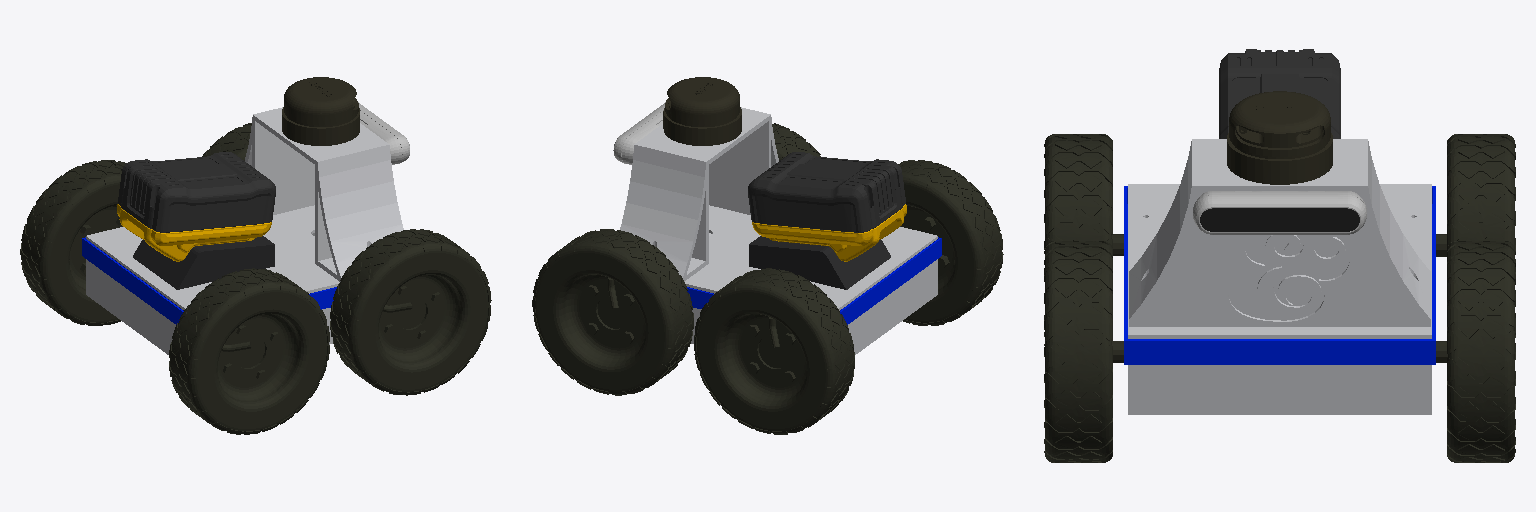
robot.urdf — scout_description:
<?xml version="1.0" encoding="utf-8"?>
<!-- This URDF was automatically created by SolidWorks to URDF Exporter! Originally created by Stephen Brawner (brawner@gmail.com) 
     Commit Version: 1.6.0-4-g7f85cfe  Build Version: 1.6.7995.38578
     For more information, please see http://wiki.ros.org/sw_urdf_exporter -->
<robot
  name="scout_description">
  <!-- REP-103 root. The export has forward along -Y with its origin on the chassis
       plate, so this yaws the body 90 deg to put forward on +X and lifts it by
       (wheel radius 0.079 - hub height 0.031915) so the tires rest on z=0. -->
  <link
    name="base_link" />
  <joint
    name="base_link_to_chassis"
    type="fixed">
    <origin
      xyz="0 0 0.047085"
      rpy="0 0 1.5707963267949" />
    <parent
      link="base_link" />
    <child
      link="chassis_link" />
  </joint>
  <link
    name="chassis_link">
    <inertial>
      <origin
        xyz="-2.05133475403087E-07 0.0134919234773477 1.16119861437405E-09"
        rpy="0 0 0" />
      <mass
        value="0.628253833536181" />
      <inertia
        ixx="0.00527449992314681"
        ixy="1.49341221243653E-09"
        ixz="-6.50016094967778E-09"
        iyy="0.00878074361297849"
        iyz="-1.80045112754674E-09"
        izz="0.00369642689872633" />
    </inertial>
    <visual>
      <origin
        xyz="0 0 0"
        rpy="0 0 0" />
      <geometry>
        <mesh
          filename="package://scout_description/meshes/base_link.STL" />
      </geometry>
      <material
        name="">
        <color
          rgba="0.807843137254902 0.811764705882353 0.827450980392157 1" />
      </material>
    </visual>
    <collision>
      <origin
        xyz="0 0 0"
        rpy="0 0 0" />
      <geometry>
        <mesh
          filename="package://scout_description/meshes/base_link.STL" />
      </geometry>
    </collision>
  </link>
  <link
    name="spacer_link">
    <inertial>
      <origin
        xyz="0.000197527385681256 -1.02412729467648E-16 0.00960326154184477"
        rpy="0 0 0" />
      <mass
        value="0.0727570000000002" />
      <inertia
        ixx="0.000727189014800202"
        ixy="-6.19885483493687E-19"
        ixz="-4.16304767514318E-08"
        iyy="0.000557527029097879"
        iyz="1.37604985473919E-20"
        izz="0.00128096940333934" />
    </inertial>
    <visual>
      <origin
        xyz="0 0 0"
        rpy="0 0 0" />
      <geometry>
        <mesh
          filename="package://scout_description/meshes/spacer_link.STL" />
      </geometry>
      <material
        name="">
        <color
          rgba="0 0.156862745098039 0.941176470588235 1" />
      </material>
    </visual>
    <collision>
      <origin
        xyz="0 0 0"
        rpy="0 0 0" />
      <geometry>
        <mesh
          filename="package://scout_description/meshes/spacer_link.STL" />
      </geometry>
    </collision>
  </link>
  <joint
    name="base_to_spacer"
    type="fixed">
    <origin
      xyz="0 0 0.04045"
      rpy="0 0 0" />
    <parent
      link="chassis_link" />
    <child
      link="spacer_link" />
    <axis
      xyz="0 0 0" />
  </joint>
  <link
    name="lid_link">
    <inertial>
      <origin
        xyz="-5.90796921207222E-05 -8.17963188809673E-06 0.0015029268816516"
        rpy="0 0 0" />
      <mass
        value="0.162322772396665" />
      <inertia
        ixx="0.000874883332732845"
        ixy="6.49448789501585E-07"
        ixz="-2.35805250538555E-08"
        iyy="0.000635386183112481"
        iyz="-2.86484235043486E-08"
        izz="0.00151002603453141" />
    </inertial>
    <visual>
      <origin
        xyz="0 0 0"
        rpy="0 0 0" />
      <geometry>
        <mesh
          filename="package://scout_description/meshes/lid_link.STL" />
      </geometry>
      <material
        name="">
        <color
          rgba="0.807843137254902 0.811764705882353 0.827450980392157 1" />
      </material>
    </visual>
    <collision>
      <origin
        xyz="0 0 0"
        rpy="0 0 0" />
      <geometry>
        <mesh
          filename="package://scout_description/meshes/lid_link.STL" />
      </geometry>
    </collision>
  </link>
  <joint
    name="spacer_to_lid"
    type="fixed">
    <origin
      xyz="0 0 0.019"
      rpy="0 0 0" />
    <parent
      link="spacer_link" />
    <child
      link="lid_link" />
    <axis
      xyz="0 0 0" />
  </joint>
  <link
    name="mount_link">
    <inertial>
      <origin
        xyz="-6.64625778188209E-05 -0.0078883946161637 0.053831360572386"
        rpy="0 0 0" />
      <mass
        value="0.313573385007994" />
      <inertia
        ixx="0.000639365050518883"
        ixy="-6.44807296161262E-07"
        ixz="5.93109068766818E-07"
        iyy="0.0017204243036312"
        iyz="-1.15657524613188E-05"
        izz="0.00149197210979415" />
    </inertial>
    <visual>
      <origin
        xyz="0 0 0"
        rpy="0 0 0" />
      <geometry>
        <mesh
          filename="package://scout_description/meshes/mount_link.STL" />
      </geometry>
      <material
        name="">
        <color
          rgba="0.807843137254902 0.811764705882353 0.827450980392157 1" />
      </material>
    </visual>
    <collision>
      <origin
        xyz="0 0 0"
        rpy="0 0 0" />
      <geometry>
        <mesh
          filename="package://scout_description/meshes/mount_link.STL" />
      </geometry>
    </collision>
  </link>
  <joint
    name="lid_to_mount"
    type="fixed">
    <origin
      xyz="0 -0.0725 0.00299999999999989"
      rpy="0 0 0" />
    <parent
      link="lid_link" />
    <child
      link="mount_link" />
    <axis
      xyz="0 0 0" />
  </joint>
  <!-- Exporter's camera frame: Z out of the lens, Y up, X to the robot's left.
       Renamed from camera_link so the name is free for the REP-103 sensor frame
       below, which is what realsense2_camera roots its optical frames on. -->
  <link
    name="camera_body_link">
    <inertial>
      <origin
        xyz="0.000277512825265069 0.000294389543929602 -0.0135772996514738"
        rpy="0 0 0" />
      <mass
        value="0.0236867347433105" />
      <inertia
        ixx="2.80822628723906E-06"
        ixy="2.79444531533659E-08"
        ixz="-1.38614165535007E-08"
        iyy="3.23846816719998E-05"
        iyz="-2.6287464214589E-08"
        izz="3.45245699648636E-05" />
    </inertial>
    <visual>
      <origin
        xyz="0 0 0"
        rpy="0 0 0" />
      <geometry>
        <mesh
          filename="package://scout_description/meshes/camera_link.STL" />
      </geometry>
      <material
        name="">
        <color
          rgba="0.752941176470588 0.752941176470588 0.752941176470588 1" />
      </material>
    </visual>
    <collision>
      <origin
        xyz="0 0 0"
        rpy="0 0 0" />
      <geometry>
        <mesh
          filename="package://scout_description/meshes/camera_link.STL" />
      </geometry>
    </collision>
  </link>
  <joint
    name="mount_to_camera"
    type="fixed">
    <origin
      xyz="0 -0.066 0.0955"
      rpy="1.5707963267949 0 0" />
    <parent
      link="mount_link" />
    <child
      link="camera_body_link" />
    <axis
      xyz="0 0 0" />
  </joint>
  <!-- REP-103 sensor frame: X out of the lens, Y left, Z up. realsense2_camera
       roots its whole tree here (base_frame_id = <camera_name>_link) and assumes
       a body frame, so handing it the exporter's optical-style frame aims the
       boresight down the robot's left and rolls the image 90 deg. Rotation only;
       the origin still sits where the CAD frame does, which is NOT the depth
       imager realsense measures from. -->
  <link
    name="camera_link" />
  <joint
    name="camera_body_to_camera"
    type="fixed">
    <origin
      xyz="0 0 0"
      rpy="-1.5707963267949 -1.5707963267949 0" />
    <parent
      link="camera_body_link" />
    <child
      link="camera_link" />
    <axis
      xyz="0 0 0" />
  </joint>
  <link
    name="lens_link">
    <inertial>
      <origin
        xyz="8.12762737623786E-16 0 -0.000374999999999959"
        rpy="0 0 0" />
      <mass
        value="0.00111062343059037" />
      <inertia
        ixx="3.04707470445964E-08"
        ixy="5.82053463846387E-22"
        ixz="3.20842615796104E-22"
        iyy="1.11409811311008E-06"
        iyz="-3.97785661047127E-24"
        izz="1.14451303350383E-06" />
    </inertial>
    <visual>
      <origin
        xyz="0 0 0"
        rpy="0 0 0" />
      <geometry>
        <mesh
          filename="package://scout_description/meshes/lens_link.STL" />
      </geometry>
      <material
        name="">
        <color
          rgba="0.164705882352941 0.164705882352941 0.164705882352941 1" />
      </material>
    </visual>
    <collision>
      <origin
        xyz="0 0 0"
        rpy="0 0 0" />
      <geometry>
        <mesh
          filename="package://scout_description/meshes/lens_link.STL" />
      </geometry>
    </collision>
  </link>
  <joint
    name="camera_to_lens"
    type="fixed">
    <origin
      xyz="0 0 0"
      rpy="0 0 0" />
    <parent
      link="camera_body_link" />
    <child
      link="lens_link" />
    <axis
      xyz="0 0 0" />
  </joint>
  <link
    name="lidar2_link">
    <inertial>
      <origin
        xyz="-2.40795824818487E-15 0.0121144991864107 -1.21936715905269E-05"
        rpy="0 0 0" />
      <mass
        value="0.10773590450219" />
      <inertia
        ixx="4.26802409371355E-05"
        ixy="-2.57878394280843E-20"
        ixz="4.59909336363118E-21"
        iyy="7.46209690453417E-05"
        iyz="-1.17766288567913E-08"
        izz="4.27190109949372E-05" />
    </inertial>
    <visual>
      <origin
        xyz="0 0 0"
        rpy="0 0 0" />
      <geometry>
        <mesh
          filename="package://scout_description/meshes/lidar2_link.STL" />
      </geometry>
      <material
        name="">
        <color
          rgba="0.215686274509804 0.207843137254902 0.164705882352941 1" />
      </material>
    </visual>
    <collision>
      <origin
        xyz="0 0 0"
        rpy="0 0 0" />
      <geometry>
        <mesh
          filename="package://scout_description/meshes/lidar2_link.STL" />
      </geometry>
    </collision>
  </link>
  <joint
    name="mount_to_lidar2"
    type="fixed">
    <origin
      xyz="0 0 0.11"
      rpy="1.5707963267949 0 0" />
    <parent
      link="mount_link" />
    <child
      link="lidar2_link" />
    <axis
      xyz="0 0 0" />
  </joint>
  <link
    name="lidar1_link">
    <inertial>
      <origin
        xyz="-6.79284396693771E-05 0.0127582910572877 -0.00287745718272379"
        rpy="0 0 0" />
      <mass
        value="0.0553294443219569" />
      <inertia
        ixx="1.7720011787333E-05"
        ixy="-5.01380876339831E-09"
        ixz="3.90002280633357E-08"
        iyy="3.29678736378217E-05"
        iyz="-2.52610062775517E-07"
        izz="1.80444163063016E-05" />
    </inertial>
    <visual>
      <origin
        xyz="0 0 0"
        rpy="0 0 0" />
      <geometry>
        <mesh
          filename="package://scout_description/meshes/lidar1_link.STL" />
      </geometry>
      <material
        name="">
        <color
          rgba="0.215686274509804 0.207843137254902 0.164705882352941 1" />
      </material>
    </visual>
    <collision>
      <origin
        xyz="0 0 0"
        rpy="0 0 0" />
      <geometry>
        <mesh
          filename="package://scout_description/meshes/lidar1_link.STL" />
      </geometry>
    </collision>
  </link>
  <joint
    name="lidar2_to_lidar1"
    type="fixed">
    <origin
      xyz="0 0.0211 0"
      rpy="0 0 0" />
    <parent
      link="lidar2_link" />
    <child
      link="lidar1_link" />
    <axis
      xyz="0 1 0" />
  </joint>
  <link
    name="batterym_link">
    <inertial>
      <origin
        xyz="1.6947007653915E-16 0.00242659541762764 0.0142485318440091"
        rpy="0 0 0" />
      <mass
        value="0.248922879913385" />
      <inertia
        ixx="0.000214734657911992"
        ixy="2.09093707906613E-19"
        ixz="-3.56770084369574E-21"
        iyy="0.000176135300347817"
        iyz="3.02399111309702E-06"
        izz="0.000353244154913819" />
    </inertial>
    <visual>
      <origin
        xyz="0 0 0"
        rpy="0 0 0" />
      <geometry>
        <mesh
          filename="package://scout_description/meshes/batterym_link.STL" />
      </geometry>
      <material
        name="">
        <color
          rgba="0.196078431372549 0.196078431372549 0.2 1" />
      </material>
    </visual>
    <collision>
      <origin
        xyz="0 0 0"
        rpy="0 0 0" />
      <geometry>
        <mesh
          filename="package://scout_description/meshes/batterym_link.STL" />
      </geometry>
    </collision>
  </link>
  <joint
    name="lid_to_batterym"
    type="fixed">
    <origin
      xyz="0 0.058 0.003"
      rpy="0 0 3.14159265358979" />
    <parent
      link="lid_link" />
    <child
      link="batterym_link" />
    <axis
      xyz="0 0 0" />
  </joint>
  <link
    name="battery2_link">
    <inertial>
      <origin
        xyz="0.00356409854564139 -4.93989481279082E-06 0.0128800322039038"
        rpy="0 0 0" />
      <mass
        value="0.245273999891397" />
      <inertia
        ixx="0.000143231524586307"
        ixy="5.99241048237948E-08"
        ixz="2.70899560254507E-06"
        iyy="0.000306197402580858"
        iyz="1.08329264906422E-08"
        izz="0.000409138611513668" />
    </inertial>
    <visual>
      <origin
        xyz="0 0 0"
        rpy="0 0 0" />
      <geometry>
        <mesh
          filename="package://scout_description/meshes/battery2_link.STL" />
      </geometry>
      <material
        name="">
        <color
          rgba="0.917647058823529 0.690196078431373 0.00392156862745098 1" />
      </material>
    </visual>
    <collision>
      <origin
        xyz="0 0 0"
        rpy="0 0 0" />
      <geometry>
        <mesh
          filename="package://scout_description/meshes/battery2_link.STL" />
      </geometry>
    </collision>
  </link>
  <joint
    name="batterym_to_battery2"
    type="fixed">
    <origin
      xyz="0 -0.00981069409924784 0.0546631361304657"
      rpy="3.14159265358979 0.141897054604163 1.5707963267949" />
    <parent
      link="batterym_link" />
    <child
      link="battery2_link" />
    <axis
      xyz="0 0 0" />
  </joint>
  <link
    name="battery1_link">
    <inertial>
      <origin
        xyz="-0.000648946663499711 -5.1449797614796E-07 -0.0208675710085726"
        rpy="0 0 0" />
      <mass
        value="0.458824452680413" />
      <inertia
        ixx="0.000333300422174506"
        ixy="2.20420351975092E-09"
        ixz="-1.32903008247267E-06"
        iyy="0.000721396419182853"
        iyz="-3.34521158831995E-09"
        izz="0.000920494631836151" />
    </inertial>
    <visual>
      <origin
        xyz="0 0 0"
        rpy="0 0 0" />
      <geometry>
        <mesh
          filename="package://scout_description/meshes/battery1_link.STL" />
      </geometry>
      <material
        name="">
        <color
          rgba="0.227450980392157 0.227450980392157 0.227450980392157 1" />
      </material>
    </visual>
    <collision>
      <origin
        xyz="0 0 0"
        rpy="0 0 0" />
      <geometry>
        <mesh
          filename="package://scout_description/meshes/battery1_link.STL" />
      </geometry>
    </collision>
  </link>
  <joint
    name="battery2_to_battery1"
    type="fixed">
    <origin
      xyz="0 -0.00981069409924784 0.0546631361304657"
      rpy="3.14159265358979 0.141897054604163 1.5707963267949" />
    <parent
      link="batterym_link" />
    <child
      link="battery1_link" />
    <axis
      xyz="0 0 0" />
  </joint>
  <link
    name="wheel1_link">
    <inertial>
      <origin
        xyz="0.0315846280216946 3.232872720179E-05 -6.887606772088E-06"
        rpy="0 0 0" />
      <mass
        value="0.661364365595557" />
      <inertia
        ixx="0.00252789625291628"
        ixy="-1.74768796826414E-07"
        ixz="5.12126242838257E-08"
        iyy="0.00137382804723504"
        iyz="7.86987583617194E-08"
        izz="0.00137430436664017" />
    </inertial>
    <visual>
      <origin
        xyz="0 0 0"
        rpy="0 0 0" />
      <geometry>
        <mesh
          filename="package://scout_description/meshes/wheel_link.STL" />
      </geometry>
      <material
        name="">
        <color
          rgba="0.211764705882353 0.215686274509804 0.176470588235294 1" />
      </material>
    </visual>
    <collision>
      <origin
        xyz="0 0 0"
        rpy="0 0 0" />
      <geometry>
        <mesh
          filename="package://scout_description/meshes/wheel_link.STL" />
      </geometry>
    </collision>
  </link>
  <joint
    name="base_to_wheel1"
    type="continuous">
    <origin
      xyz="0.111 -0.089606 0.031915"
      rpy="1.5708 0 0" />
    <parent
      link="chassis_link" />
    <child
      link="wheel1_link" />
    <axis
      xyz="1 0 0" />
  </joint>
  <link
    name="wheel2_link">
    <inertial>
      <origin
        xyz="0.0315846280216945 3.23287272018941E-05 -6.88760677217126E-06"
        rpy="0 0 0" />
      <mass
        value="0.661364365595554" />
      <inertia
        ixx="0.00252789625291627"
        ixy="-1.74768796829608E-07"
        ixz="5.12126242840896E-08"
        iyy="0.00137382804723503"
        iyz="7.8698758356388E-08"
        izz="0.00137430436664016" />
    </inertial>
    <visual>
      <origin
        xyz="0 0 0"
        rpy="0 0 0" />
      <geometry>
        <mesh
          filename="package://scout_description/meshes/wheel_link.STL" />
      </geometry>
      <material
        name="">
        <color
          rgba="0.211764705882353 0.215686274509804 0.176470588235294 1" />
      </material>
    </visual>
    <collision>
      <origin
        xyz="0 0 0"
        rpy="0 0 0" />
      <geometry>
        <mesh
          filename="package://scout_description/meshes/wheel_link.STL" />
      </geometry>
    </collision>
  </link>
  <joint
    name="base_to_wheel2"
    type="continuous">
    <origin
      xyz="-0.111 -0.089606 0.031915"
      rpy="2.7498 0 3.1416" />
    <parent
      link="chassis_link" />
    <child
      link="wheel2_link" />
    <axis
      xyz="1 0 0" />
  </joint>
  <link
    name="wheel3_link">
    <inertial>
      <origin
        xyz="0.0315846280216946 3.23287272019773E-05 -6.88760677227535E-06"
        rpy="0 0 0" />
      <mass
        value="0.661364365595557" />
      <inertia
        ixx="0.00252789625291628"
        ixy="-1.74768796828711E-07"
        ixz="5.12126242856907E-08"
        iyy="0.00137382804723504"
        iyz="7.86987583596406E-08"
        izz="0.00137430436664017" />
    </inertial>
    <visual>
      <origin
        xyz="0 0 0"
        rpy="0 0 0" />
      <geometry>
        <mesh
          filename="package://scout_description/meshes/wheel_link.STL" />
      </geometry>
      <material
        name="">
        <color
          rgba="0.211764705882353 0.215686274509804 0.176470588235294 1" />
      </material>
    </visual>
    <collision>
      <origin
        xyz="0 0 0"
        rpy="0 0 0" />
      <geometry>
        <mesh
          filename="package://scout_description/meshes/wheel_link.STL" />
      </geometry>
    </collision>
  </link>
  <joint
    name="base_to_wheel3"
    type="continuous">
    <origin
      xyz="-0.111 0.089606 0.031915"
      rpy="2.7498 0 3.1416" />
    <parent
      link="chassis_link" />
    <child
      link="wheel3_link" />
    <axis
      xyz="1 0 0" />
  </joint>
  <link
    name="wheel4_link">
    <inertial>
      <origin
        xyz="0.0315846280216946 3.23287272017969E-05 -6.88760677203248E-06"
        rpy="0 0 0" />
      <mass
        value="0.661364365595557" />
      <inertia
        ixx="0.00252789625291628"
        ixy="-1.74768796830251E-07"
        ixz="5.12126242821824E-08"
        iyy="0.00137382804723504"
        iyz="7.86987583559277E-08"
        izz="0.00137430436664017" />
    </inertial>
    <visual>
      <origin
        xyz="0 0 0"
        rpy="0 0 0" />
      <geometry>
        <mesh
          filename="package://scout_description/meshes/wheel_link.STL" />
      </geometry>
      <material
        name="">
        <color
          rgba="0.211764705882353 0.215686274509804 0.176470588235294 1" />
      </material>
    </visual>
    <collision>
      <origin
        xyz="0 0 0"
        rpy="0 0 0" />
      <geometry>
        <mesh
          filename="package://scout_description/meshes/wheel_link.STL" />
      </geometry>
    </collision>
  </link>
  <joint
    name="base_to_wheel"
    type="continuous">
    <origin
      xyz="0.111 0.0896063711074998 0.0319150350544574"
      rpy="1.5707963267949 0 0" />
    <parent
      link="chassis_link" />
    <child
      link="wheel4_link" />
    <axis
      xyz="1 0 0" />
  </joint>
</robot>

--- Facts derived from the render (not from the file) ---
Views: 3 orthographic renders of the robot side by side, from view 1: azimuth 30°, elevation 25°; view 2: azimuth 150°, elevation 25°; view 3: azimuth 270°, elevation 25°.
Model scout_description with 17 links and 16 joints (4 continuous, 12 fixed), rooted at base_link, posed every joint at zero.
Visible links, largest first — view 1: wheel2_link, wheel3_link, mount_link, wheel4_link, battery1_link, lid_link, batterym_link, chassis_link, lidar1_link, battery2_link, spacer_link, lidar2_link (+2 smaller); view 2: wheel1_link, wheel4_link, mount_link, wheel3_link, battery1_link, lid_link, batterym_link, chassis_link, lidar1_link, battery2_link, spacer_link, lidar2_link (+2 smaller); view 3: mount_link, wheel1_link, wheel2_link, chassis_link, spacer_link, lid_link, wheel4_link, wheel3_link, battery1_link, lidar1_link, lens_link, camera_body_link (+1 smaller).
Boxes of the visible links, x1=… form: wheel2_link: x1=330, y1=229, x2=491, y2=395; wheel3_link: x1=169, y1=268, x2=329, y2=434; mount_link: x1=245, y1=107, x2=403, y2=281; wheel4_link: x1=20, y1=160, x2=125, y2=325; battery1_link: x1=118, y1=152, x2=275, y2=232; lid_link: x1=86, y1=205, x2=339, y2=309; batterym_link: x1=133, y1=236, x2=274, y2=289; chassis_link: x1=86, y1=233, x2=332, y2=354; lidar1_link: x1=284, y1=77, x2=358, y2=125; battery2_link: x1=117, y1=204, x2=271, y2=261; spacer_link: x1=82, y1=237, x2=336, y2=324; lidar2_link: x1=282, y1=107, x2=359, y2=145; wheel1_link: x1=532, y1=229, x2=693, y2=395; wheel4_link: x1=694, y1=268, x2=854, y2=434; mount_link: x1=620, y1=107, x2=778, y2=281; wheel3_link: x1=898, y1=160, x2=1003, y2=325; battery1_link: x1=748, y1=152, x2=905, y2=232; lid_link: x1=685, y1=205, x2=937, y2=310; batterym_link: x1=749, y1=236, x2=890, y2=289; chassis_link: x1=691, y1=233, x2=937, y2=354; lidar1_link: x1=665, y1=77, x2=739, y2=125; battery2_link: x1=752, y1=204, x2=906, y2=261; spacer_link: x1=687, y1=237, x2=941, y2=324; lidar2_link: x1=663, y1=107, x2=741, y2=145; mount_link: x1=1129, y1=139, x2=1430, y2=326; wheel1_link: x1=1436, y1=241, x2=1515, y2=462; wheel2_link: x1=1044, y1=241, x2=1123, y2=462; chassis_link: x1=1128, y1=365, x2=1431, y2=414; spacer_link: x1=1124, y1=186, x2=1435, y2=364; lid_link: x1=1128, y1=184, x2=1431, y2=338; wheel4_link: x1=1436, y1=134, x2=1515, y2=343; wheel3_link: x1=1044, y1=134, x2=1123, y2=345; battery1_link: x1=1219, y1=49, x2=1340, y2=138; lidar1_link: x1=1229, y1=91, x2=1330, y2=156; lens_link: x1=1200, y1=208, x2=1359, y2=231; camera_body_link: x1=1193, y1=191, x2=1366, y2=234.
Bounding box of the posed robot: 0.3372 × 0.3344 × 0.262 m (x, y, z).
15 mesh visuals loaded from 12 distinct referenced files (12 binary STL).
